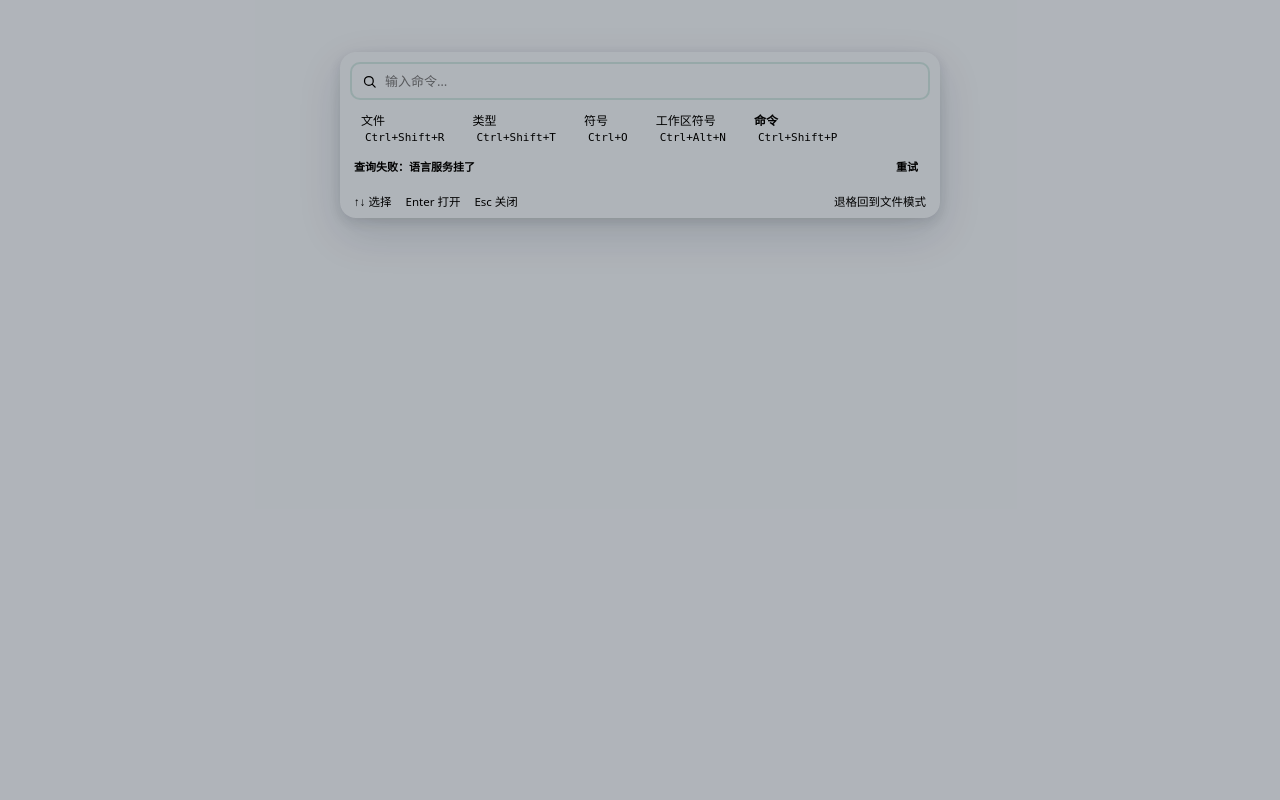
快速导航浮层的查询状态 › 查询失败给出原因和重试按钮，重试成功后列表恢复
Click the button "重试": (907, 167) [888,158,926,176]
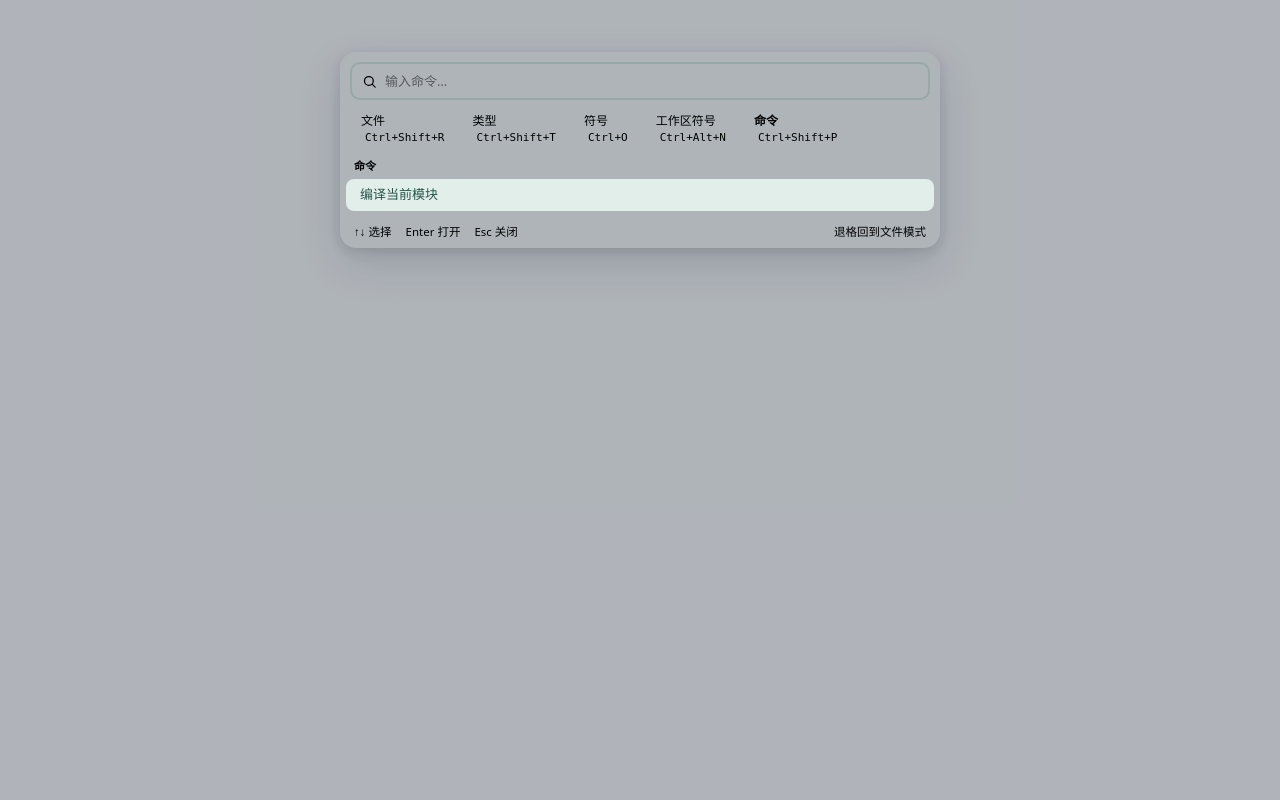
Expected: the text "编译当前模块" is shown, [360,185,438,204]
